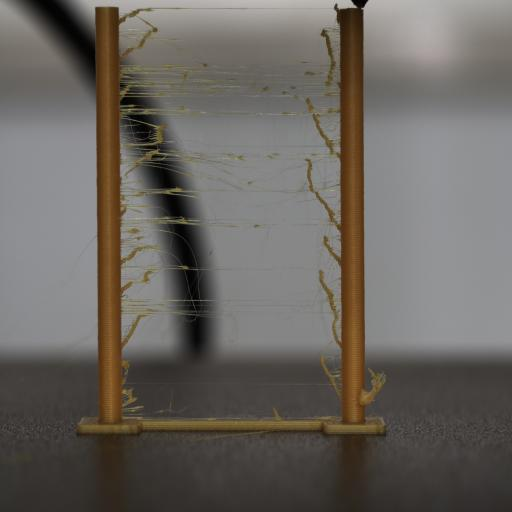stringing: (118, 4, 342, 414), (356, 366, 392, 413)
